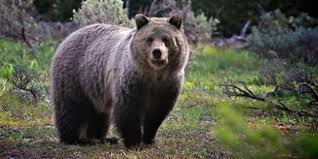bear: (49, 8, 189, 150)
